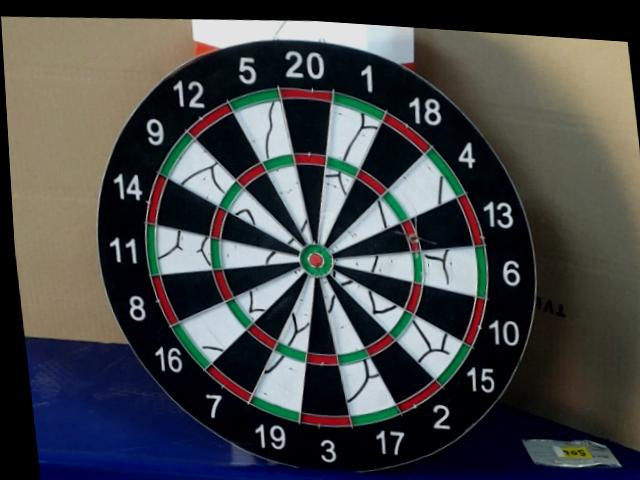triple_13: (404, 223, 420, 252)
